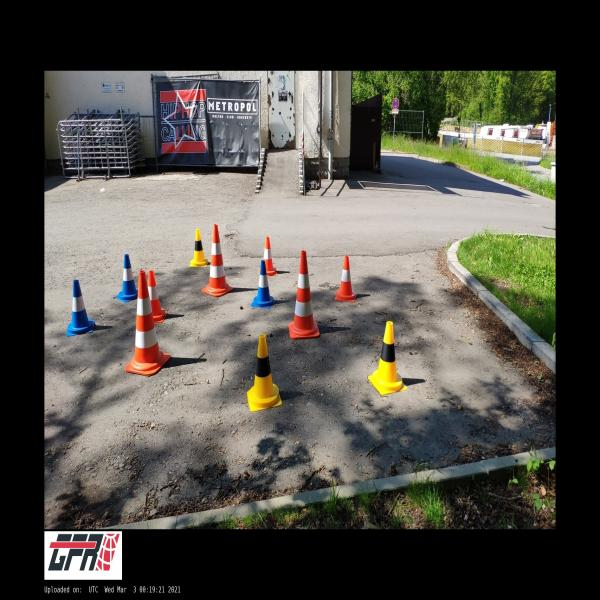blue_cone: (66, 280, 95, 337), (251, 260, 276, 308), (116, 254, 137, 303)
large_orange_cone: (125, 270, 170, 376), (289, 250, 319, 339), (202, 224, 233, 297)
orange_cone: (148, 270, 168, 322), (334, 256, 356, 301), (258, 236, 278, 276)
yellow_cone: (368, 321, 407, 395), (247, 334, 282, 412), (189, 228, 209, 267)
